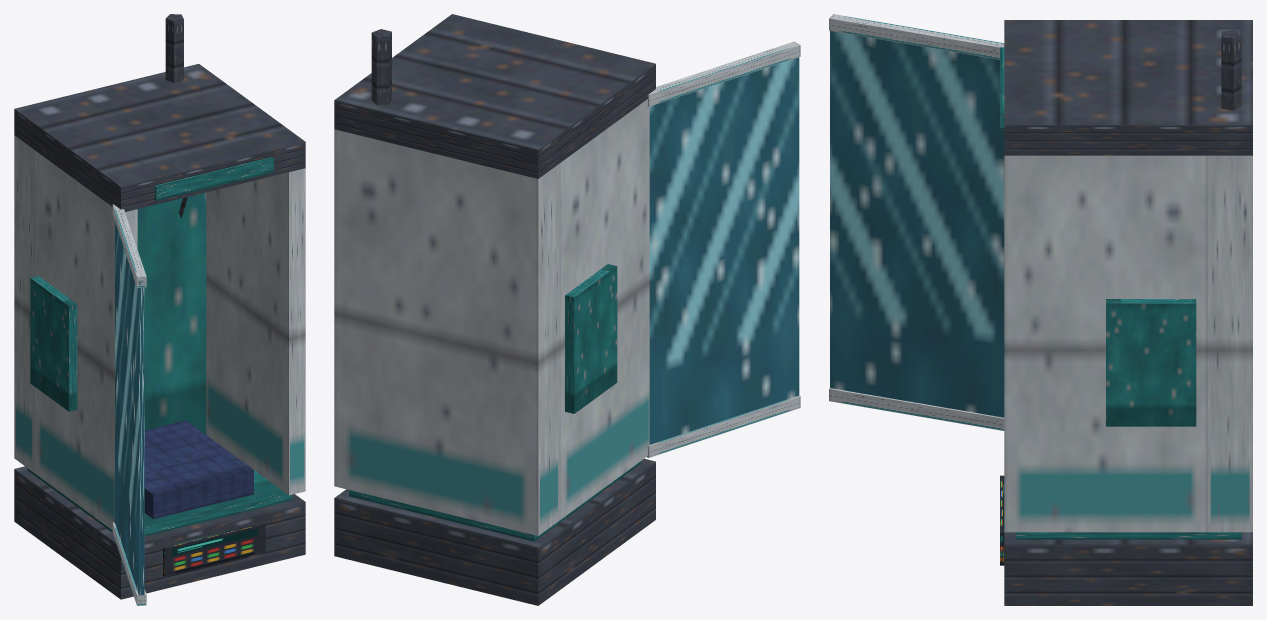
File: cryo_pod_open.fbx
3 renders of one model, left to right at view 1: azimuth 30°, elevation 25°; view 2: azimuth 150°, elevation 25°; view 3: azimuth 270°, elevation 25°, orthographic. The views are drawn at different scales.
Parts seen in each view (by area): view 1: cryo_pod_open; view 2: cryo_pod_open; view 3: cryo_pod_open.
Boxes of the visible parts, bbox=[...] form: cryo_pod_open: bbox=[14, 14, 305, 605]; cryo_pod_open: bbox=[334, 14, 800, 605]; cryo_pod_open: bbox=[829, 14, 1252, 605].
Bounding box in the file's own units: 1.49 × 2.7 × 1.88.
1 material, 1 textured.
